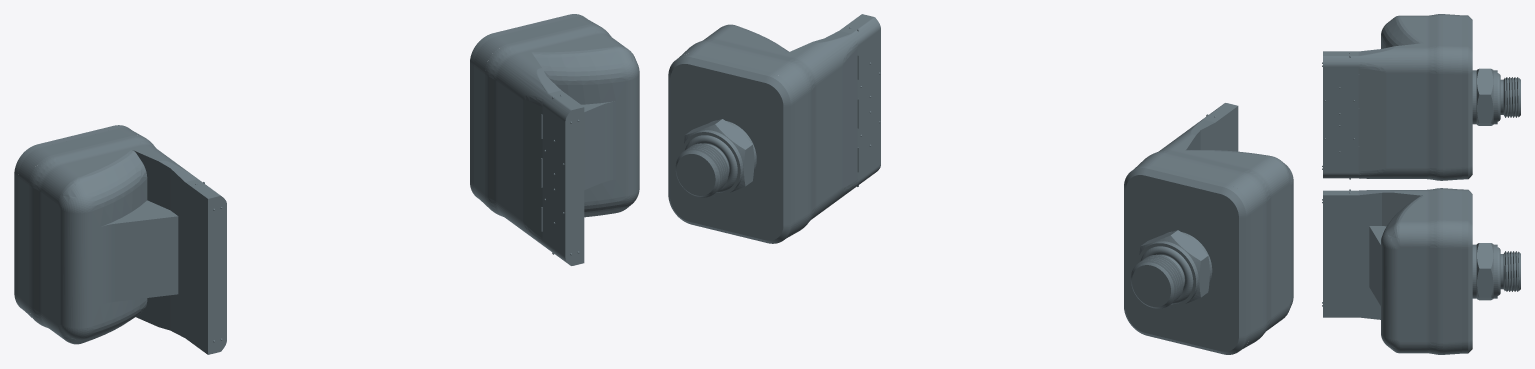
File: fixed-fingers.glb
The picture shows the model from 3 angles, left to right: view 1: azimuth 30°, elevation 25°; view 2: azimuth 150°, elevation 25°; view 3: azimuth 270°, elevation 25°; orthographic projection. The views are drawn at different scales.
Visible parts, largest first — view 1: OEM_DAC_2, OEM_DAC_0; view 2: OEM_DAC_0, OEM_DAC_2; view 3: OEM_DAC_2, OEM_DAC_0.
Part boxes in pixels (x1,y1,x2,y2): OEM_DAC_2: (14,125,226,354); OEM_DAC_0: (470,14,639,265); OEM_DAC_0: (668,14,880,243); OEM_DAC_2: (1124,103,1293,354); OEM_DAC_2: (1322,14,1520,180); OEM_DAC_0: (1322,188,1520,354).
Bounding box in the file's own units: 0.1246 × 0.0348 × 0.0472.
